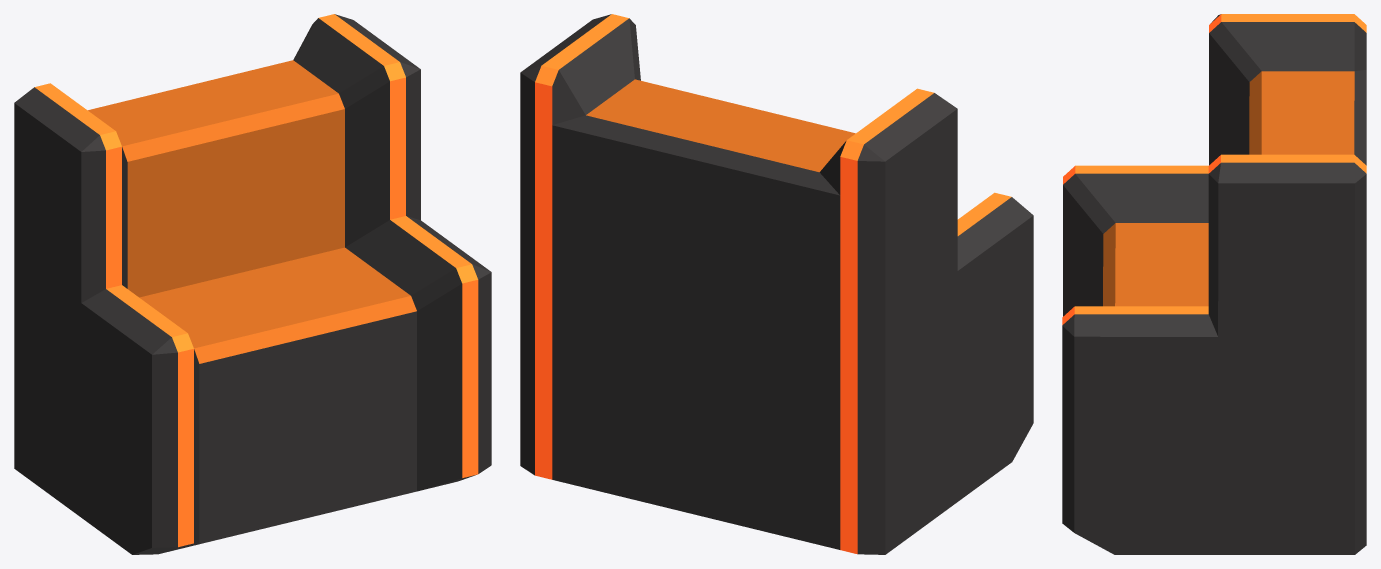
Rendered from scifi_scifi-sofa-single.fbx.
The picture shows the model from 3 angles, left to right: view 1: azimuth 30°, elevation 25°; view 2: azimuth 150°, elevation 25°; view 3: azimuth 270°, elevation 25°; orthographic projection. The views are drawn at different scales.
Parts seen in each view (by area): view 1: scifi_scifi_sofa_single; view 2: scifi_scifi_sofa_single; view 3: scifi_scifi_sofa_single.
Part boxes in pixels (bbox=[...]): scifi_scifi_sofa_single: bbox=[14, 14, 491, 554]; scifi_scifi_sofa_single: bbox=[520, 14, 1033, 554]; scifi_scifi_sofa_single: bbox=[1062, 14, 1366, 554].
Size of the model in its own units: 189 by 200 by 144.
